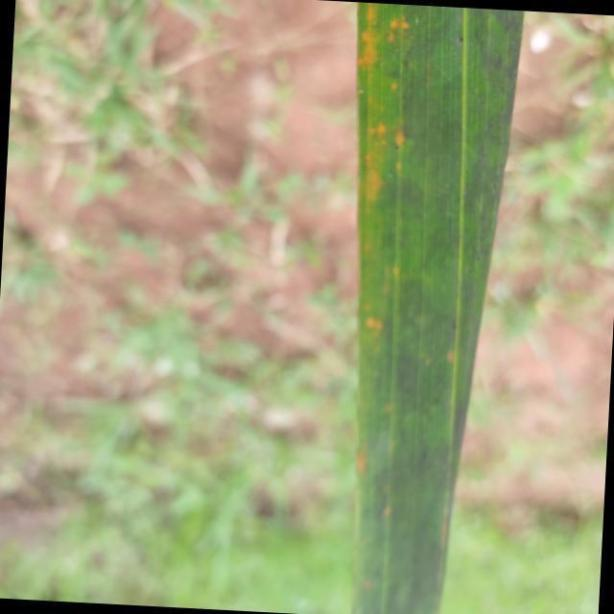Kalium: (357, 6, 526, 614)
